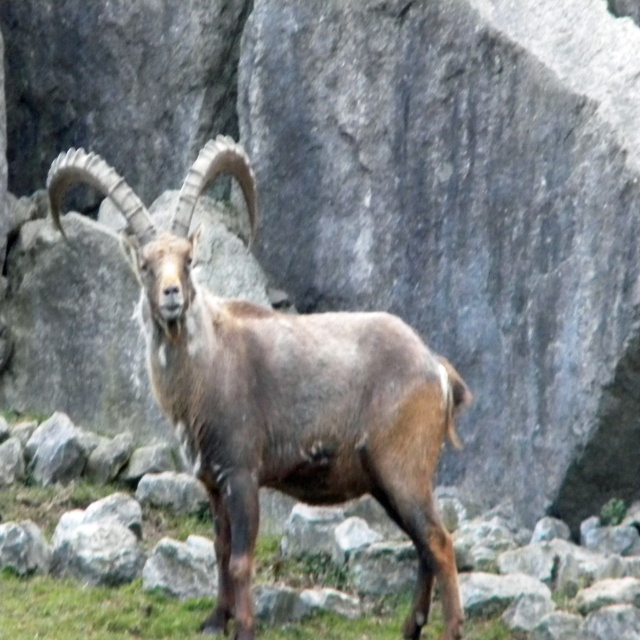Goat: (47, 134, 473, 640)
